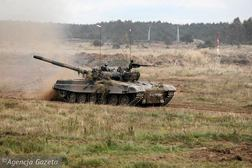t72: (32, 53, 174, 103)
